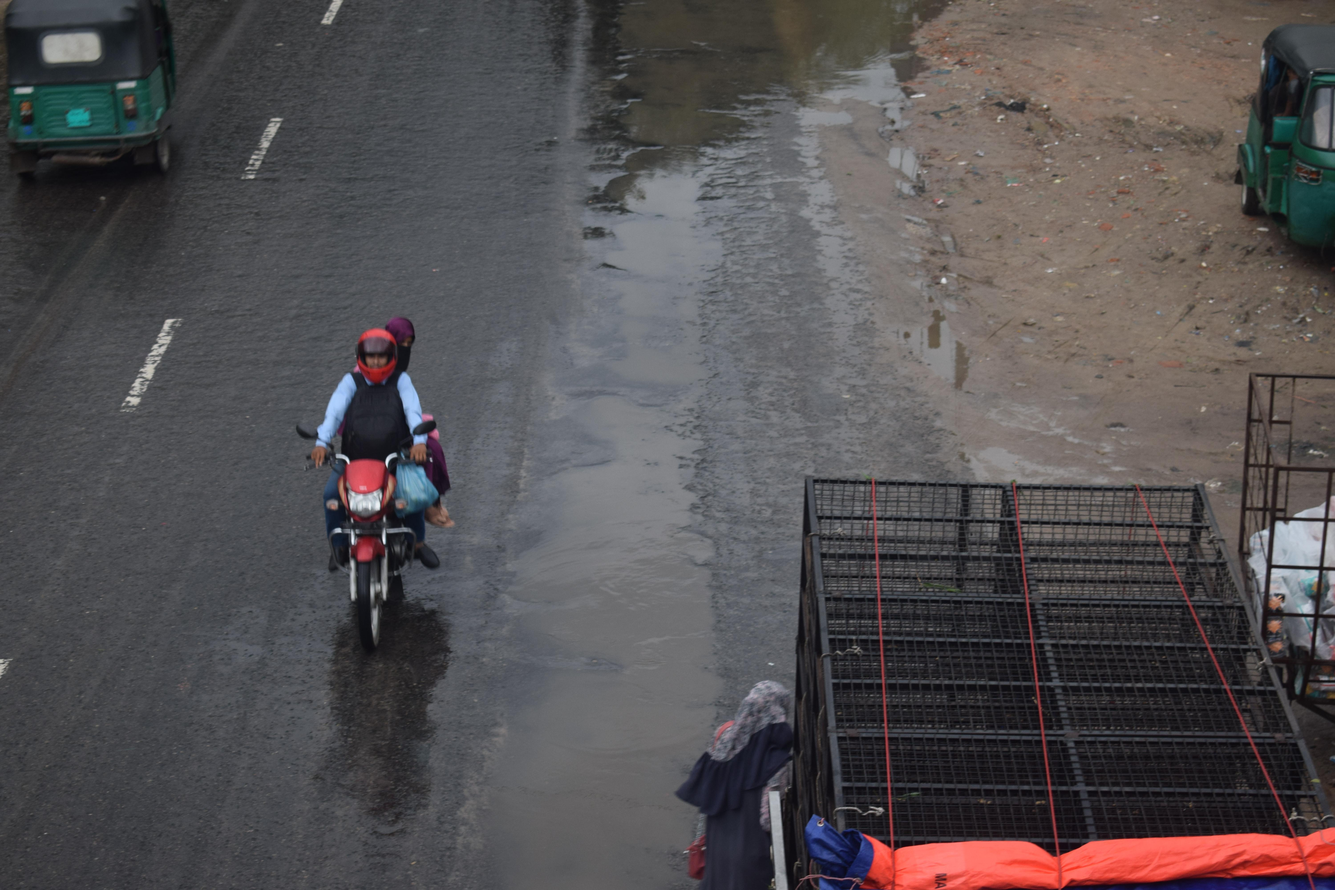Bike: (245, 285, 495, 700)
